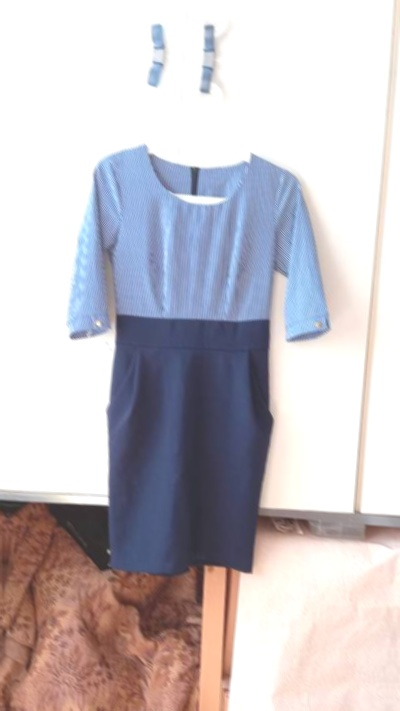Dress: (33, 107, 346, 615), (0, 83, 7, 591), (76, 0, 389, 11)
